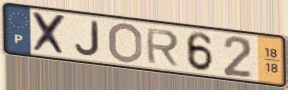2: (221, 34, 255, 80)
6: (185, 30, 216, 74)
J: (73, 19, 102, 58)
O: (107, 21, 144, 65)
R: (145, 27, 181, 68)
X: (31, 10, 69, 58)
